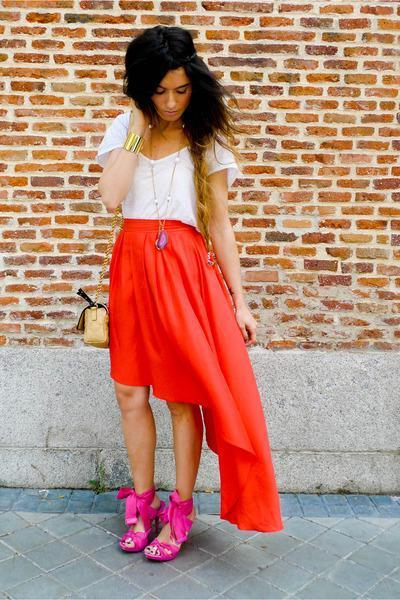short sleeve shirt: (92, 113, 240, 227)
skirt: (101, 217, 288, 534)
